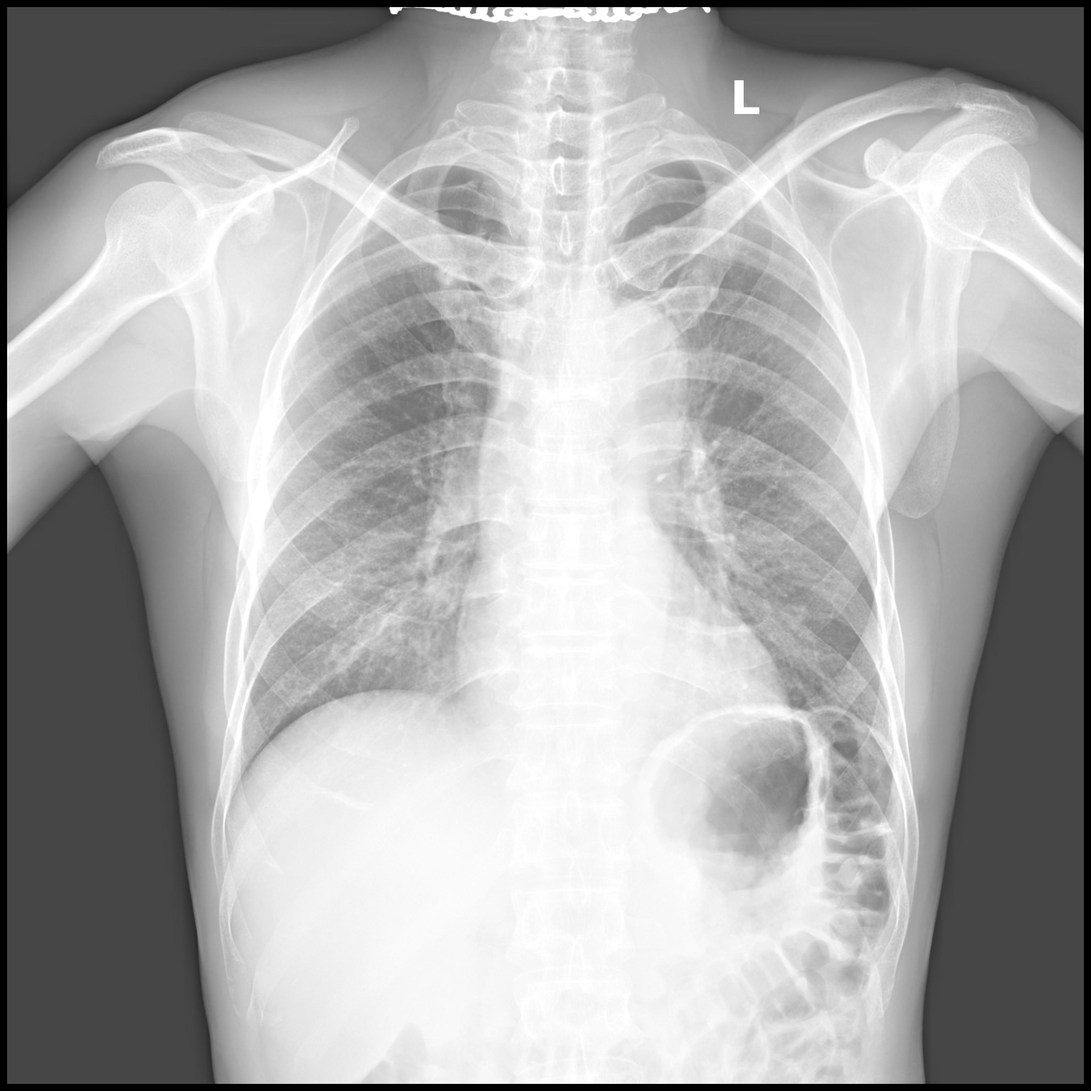Aortic enlargement: (574, 289, 687, 423)
